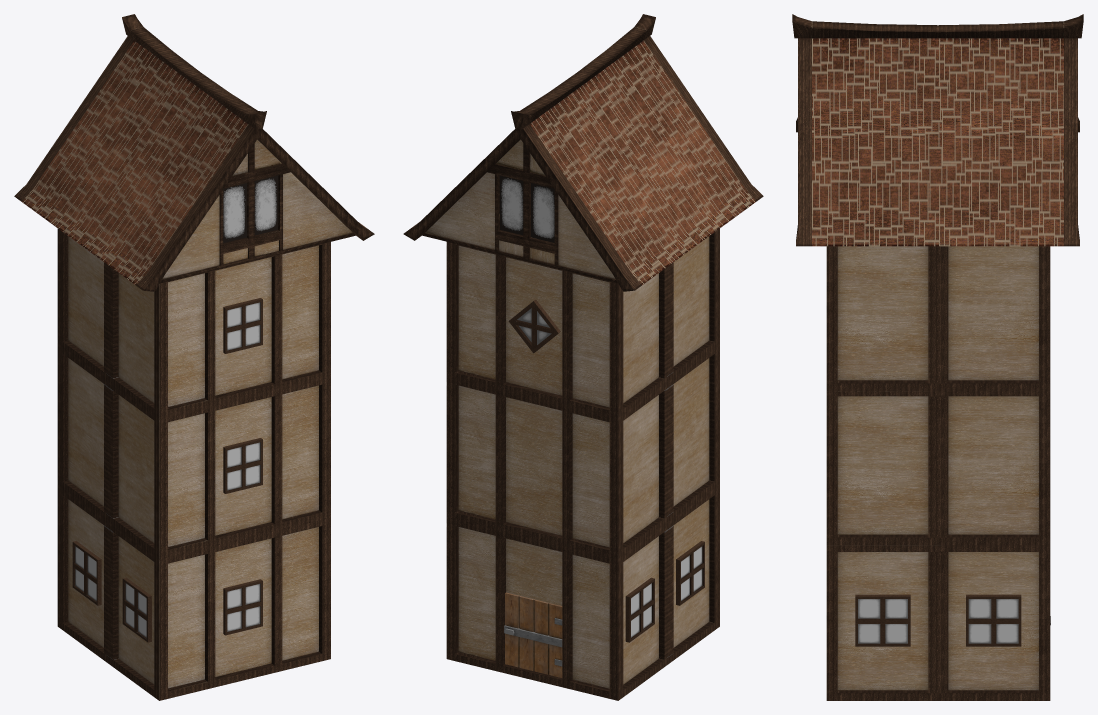
The model's file is House_3.fbx.
3 views of the same model, side by side, from view 1: azimuth 30°, elevation 25°; view 2: azimuth 150°, elevation 25°; view 3: azimuth 270°, elevation 25° (orthographic). The views are drawn at different scales.
Visible parts, largest first — view 1: roof8, block11, block10, block12, window57, window62, window67, window61, window59; view 2: roof8, block11, block12, block10, door10, window61, Window6, window59; view 3: roof8, block11, block12, block10, window58, window60.
Boxes of the visible parts, x1=… form: roof8: x1=14, y1=14, x2=374, y2=291; block11: x1=57, y1=343, x2=330, y2=559; block10: x1=57, y1=485, x2=330, y2=700; block12: x1=57, y1=228, x2=330, y2=419; window57: x1=223, y1=579, x2=262, y2=635; window62: x1=223, y1=438, x2=262, y2=493; window67: x1=223, y1=298, x2=262, y2=353; window61: x1=72, y1=541, x2=101, y2=605; window59: x1=122, y1=577, x2=151, y2=642; roof8: x1=403, y1=14, x2=763, y2=291; block11: x1=446, y1=343, x2=719, y2=558; block12: x1=446, y1=228, x2=719, y2=417; block10: x1=446, y1=484, x2=719, y2=700; door10: x1=504, y1=592, x2=562, y2=677; window61: x1=625, y1=577, x2=654, y2=642; Window6: x1=508, y1=299, x2=560, y2=353; window59: x1=676, y1=541, x2=704, y2=605; roof8: x1=792, y1=14, x2=1083, y2=246; block11: x1=826, y1=388, x2=1050, y2=545; block12: x1=826, y1=246, x2=1050, y2=391; block10: x1=826, y1=545, x2=1050, y2=700; window58: x1=855, y1=594, x2=910, y2=646; window60: x1=966, y1=594, x2=1021, y2=646.
Bounding box in the file's own units: 9.1 × 21.71 × 8.99.
